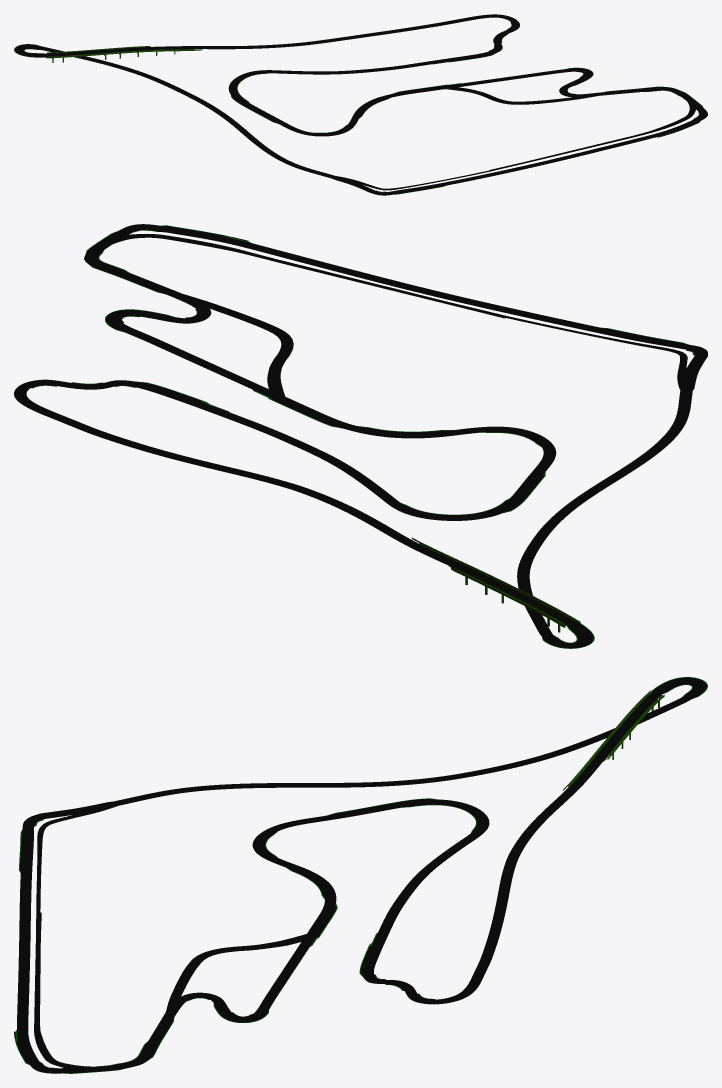
File: Track_Main.fbx
3 renders of one model, top to bottom at view 1: azimuth 30°, elevation 25°; view 2: azimuth 150°, elevation 25°; view 3: azimuth 270°, elevation 25°, orthographic. The views are drawn at different scales.
Visible parts, largest first — view 1: TS0_track01, TS3_track01, TS7_track01, TS4_track01, TS1_track01, TS8_track01, TS2_track02, TS5_track01, Track_Bridge, TS0_track02, TS7_SideTrack, TS6_track01 (+1 smaller); view 2: TS0_track01, TS3_track01, TS7_track01, TS4_track01, TS1_track01, TS8_track01, TS2_track02, TS5_track01, TS0_track02, TS7_SideTrack, TS6_track01, Track_Bridge; view 3: TS0_track01, TS3_track01, TS1_track01, TS7_track01, TS4_track01, TS8_track01, TS2_track02, TS5_track01, TS7_SideTrack, TS0_track02, TS6_track01, Track_Bridge (+1 smaller).
Part boxes in pixels (<box>): TS0_track01: <box>321,134,657,195</box>; TS3_track01: <box>205,14,519,49</box>; TS7_track01: <box>383,68,608,98</box>; TS4_track01: <box>265,30,512,74</box>; TS1_track01: <box>135,71,323,175</box>; TS8_track01: <box>607,87,707,136</box>; TS2_track02: <box>15,44,205,56</box>; TS5_track01: <box>228,70,316,135</box>; Track_Bridge: <box>45,46,202,62</box>; TS0_track02: <box>390,131,651,190</box>; TS7_SideTrack: <box>446,87,596,104</box>; TS6_track01: <box>315,96,385,136</box>; TS0_track01: <box>242,242,707,400</box>; TS3_track01: <box>14,379,406,539</box>; TS7_track01: <box>107,288,364,432</box>; TS4_track01: <box>59,380,403,508</box>; TS1_track01: <box>517,400,691,576</box>; TS8_track01: <box>84,224,247,291</box>; TS2_track02: <box>396,537,592,647</box>; TS5_track01: <box>394,443,556,520</box>; TS0_track02: <box>235,249,674,351</box>; TS7_SideTrack: <box>183,294,293,396</box>; TS6_track01: <box>359,426,551,444</box>; Track_Bridge: <box>412,537,580,632</box>; TS0_track01: <box>17,797,136,1031</box>; TS3_track01: <box>407,793,572,1004</box>; TS1_track01: <box>132,749,565,801</box>; TS7_track01: <box>161,896,336,1022</box>; TS4_track01: <box>362,831,483,994</box>; TS8_track01: <box>17,1019,171,1073</box>; TS2_track02: <box>563,678,705,794</box>; TS5_track01: <box>266,799,489,832</box>; TS7_SideTrack: <box>166,934,306,1011</box>; TS0_track02: <box>34,831,43,1031</box>; TS6_track01: <box>252,830,335,896</box>; Track_Bridge: <box>563,690,664,790</box>.
Bounding box in the file's own units: 407 × 22.02 × 331.
